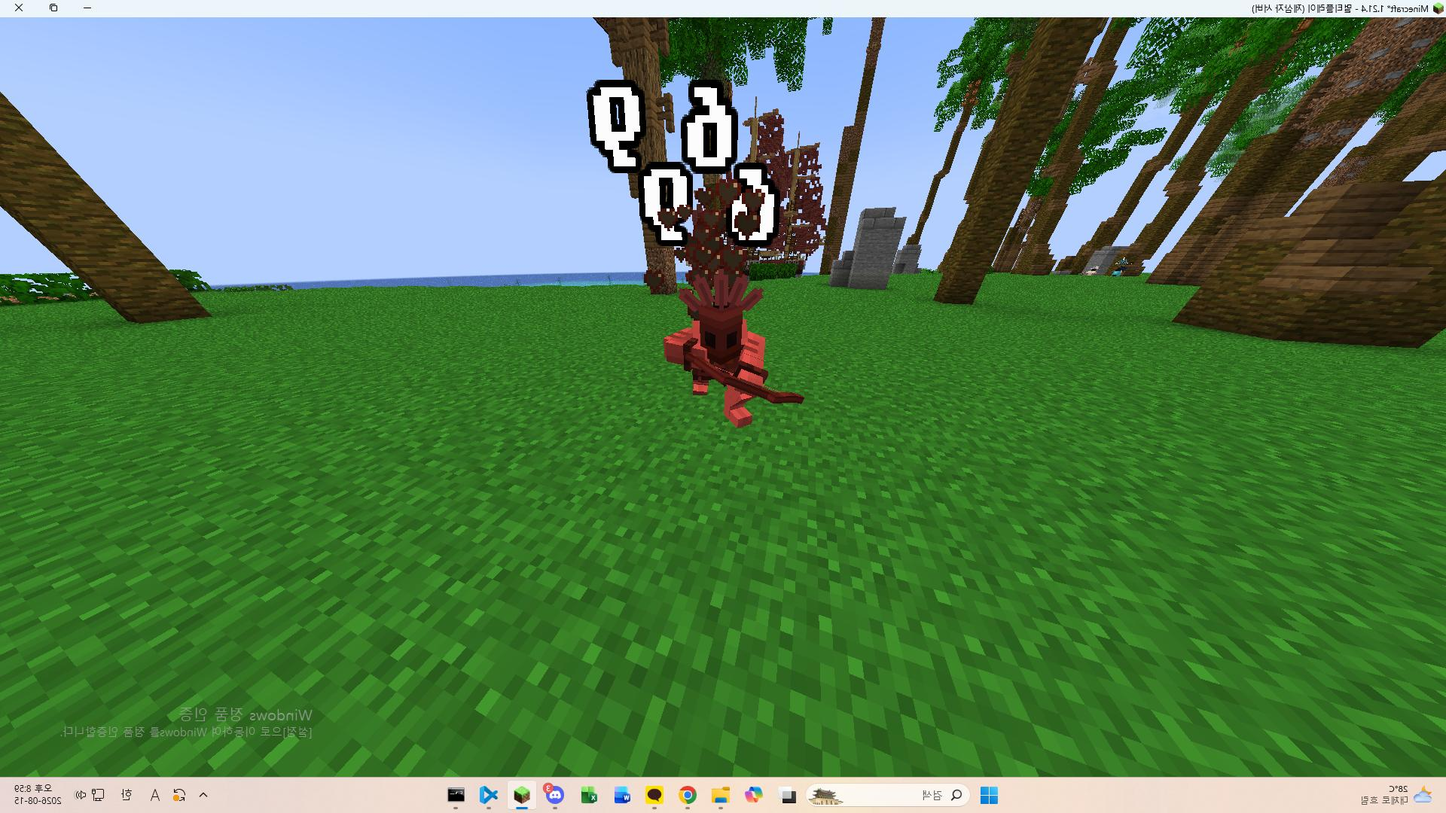bow_indian: (620, 246, 830, 434)
